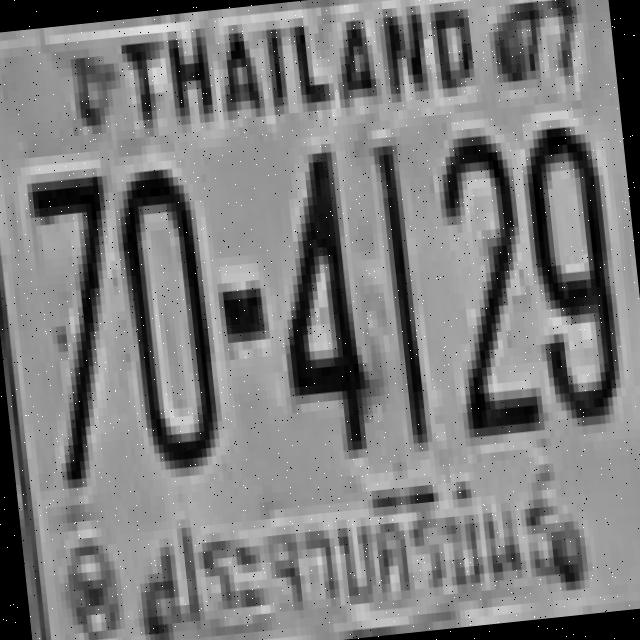0: (112, 158, 218, 463)
1: (372, 140, 428, 440)
2: (433, 124, 539, 430)
4: (264, 142, 370, 447)
7: (21, 168, 128, 480)
9: (517, 116, 623, 420)
PrachuapKhiriKhan: (137, 455, 572, 640)
